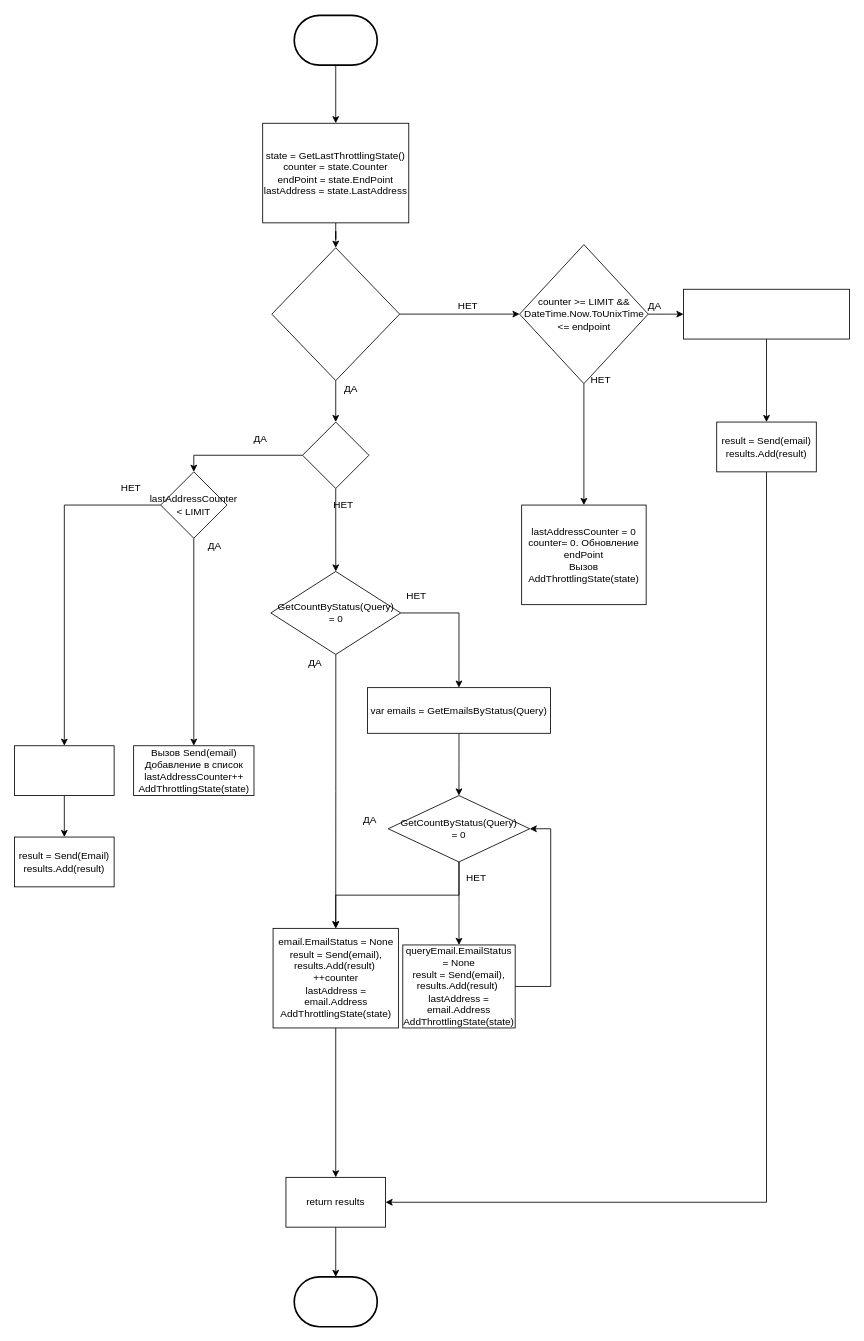
Some shapes in this 864 by 1341 pixel diagram are drawn without their labels. The shapes that lost their labels are listed below. From the top down, each one's centre as x and y in pixels, then its label:
At (x=335, y=40): "ЗАПРОС".
At (x=335, y=314): "counter < LIMIT && DateTime.Now.ToUnixTime < endPoint".
At (x=766, y=313): "email.EmailState.EmailStatus = Query".
At (x=335, y=454): "lastAddress = email.Address".
At (x=64, y=770): "EmailStatus = Query".
At (x=335, y=1301): "КОНЕЦ".
